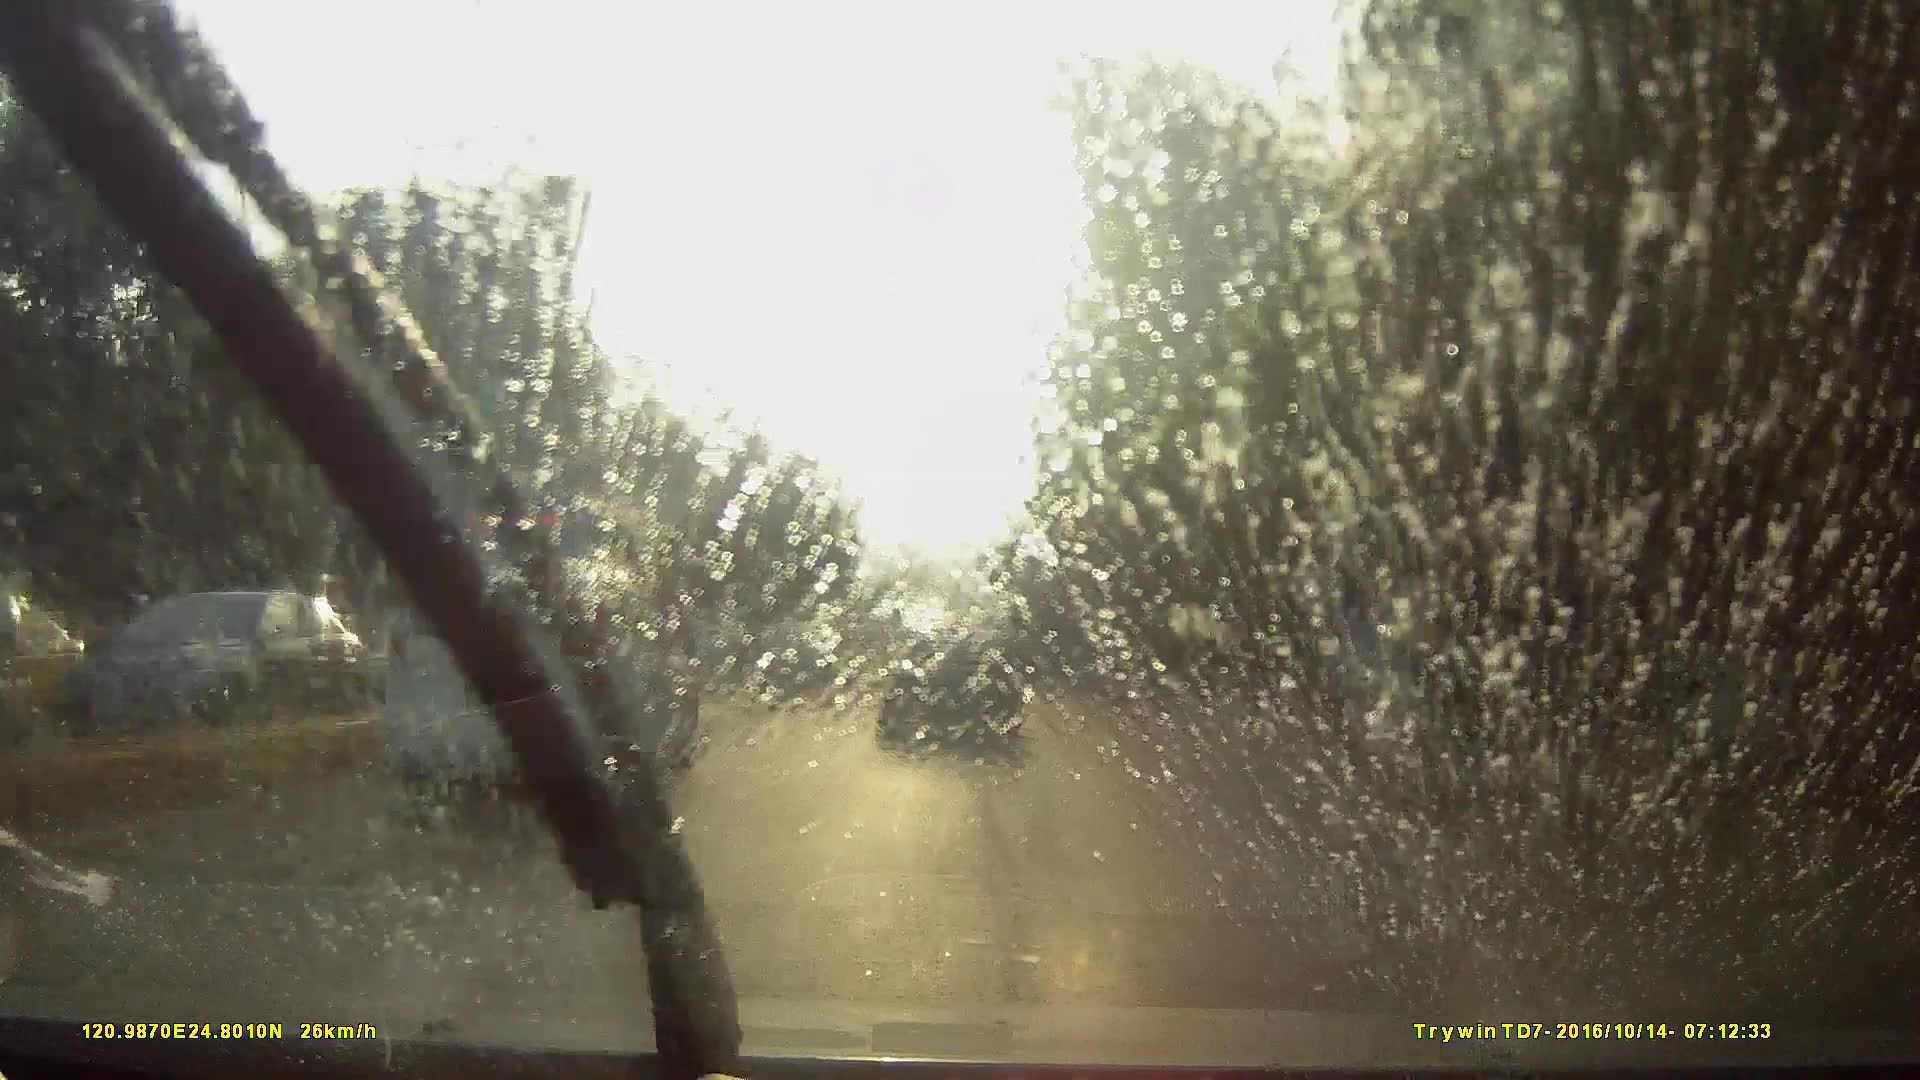vehicle: (251, 556, 684, 868), (390, 553, 702, 793), (401, 477, 713, 694), (877, 603, 1021, 753), (1000, 560, 1104, 686), (738, 615, 848, 702), (866, 638, 915, 687)
